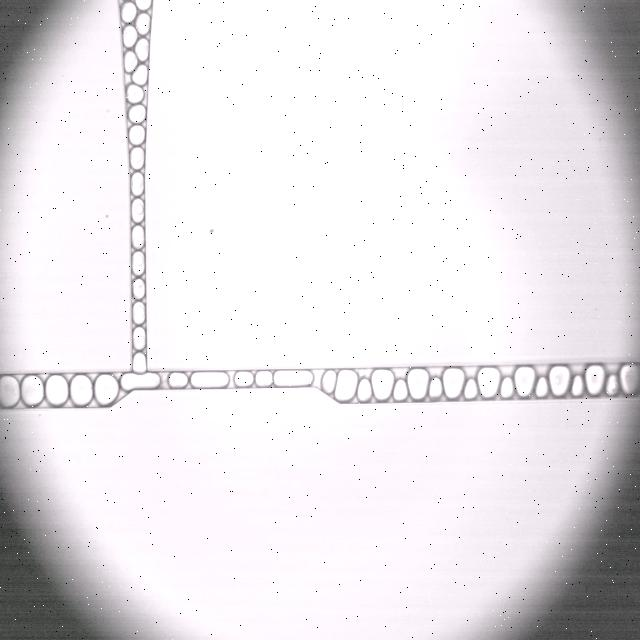L: (357, 378, 372, 402), (128, 104, 146, 123), (127, 84, 144, 103), (135, 38, 149, 61), (130, 147, 144, 170), (322, 371, 336, 394), (121, 2, 137, 22), (129, 125, 145, 145), (123, 25, 137, 47), (234, 371, 253, 387), (132, 65, 147, 85), (131, 172, 144, 195), (133, 327, 146, 350), (136, 13, 150, 34), (393, 380, 407, 401), (605, 374, 618, 396), (132, 199, 144, 222), (132, 226, 144, 249), (132, 252, 144, 275), (124, 51, 137, 72), (132, 302, 145, 323), (429, 377, 442, 398), (464, 378, 477, 399), (500, 377, 513, 398), (571, 375, 584, 396), (255, 371, 272, 387), (133, 353, 146, 373), (535, 377, 548, 397), (169, 373, 187, 387), (133, 279, 145, 299), (135, 0, 151, 10)
S: (70, 374, 93, 406), (21, 375, 44, 406), (95, 374, 118, 405), (371, 369, 394, 400), (46, 374, 68, 405), (335, 370, 357, 401), (407, 368, 429, 399), (274, 370, 313, 387), (478, 367, 500, 397), (549, 365, 570, 396), (121, 373, 159, 390), (443, 368, 464, 398), (0, 375, 19, 408), (620, 364, 640, 394), (191, 372, 228, 388), (514, 367, 534, 396), (585, 365, 604, 395)
